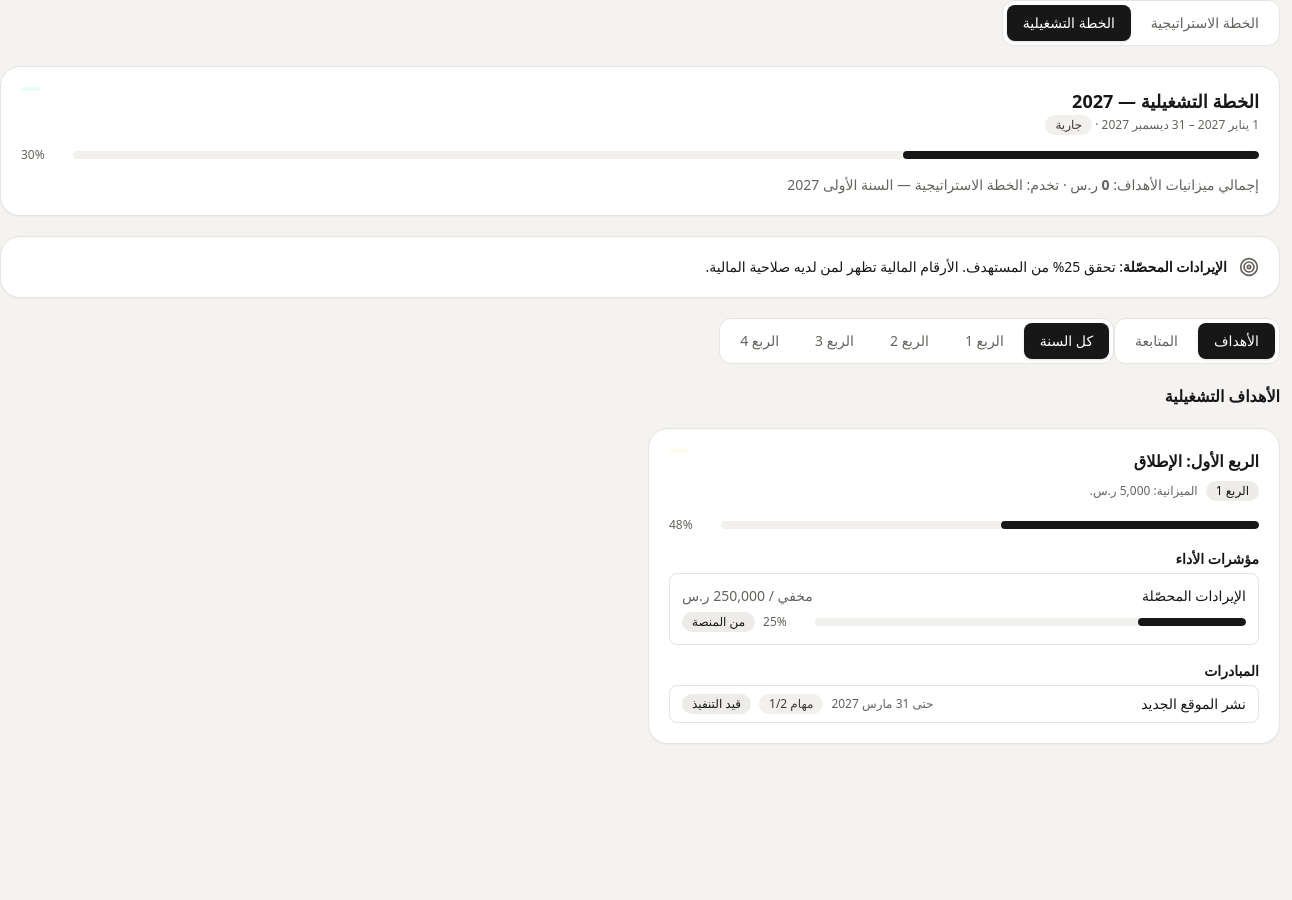
Test: the year-one template and tracking › hides the money from someone without finances, and lists everything in «المتابعة»
The image size is (1292, 900).
Expected: the text "الأرقام المالية تظهر لمن لديه صلاحية المالية" is shown, [706, 257, 1064, 276]
Click the tab "المتابعة": (1157, 341) [1119, 323, 1194, 359]
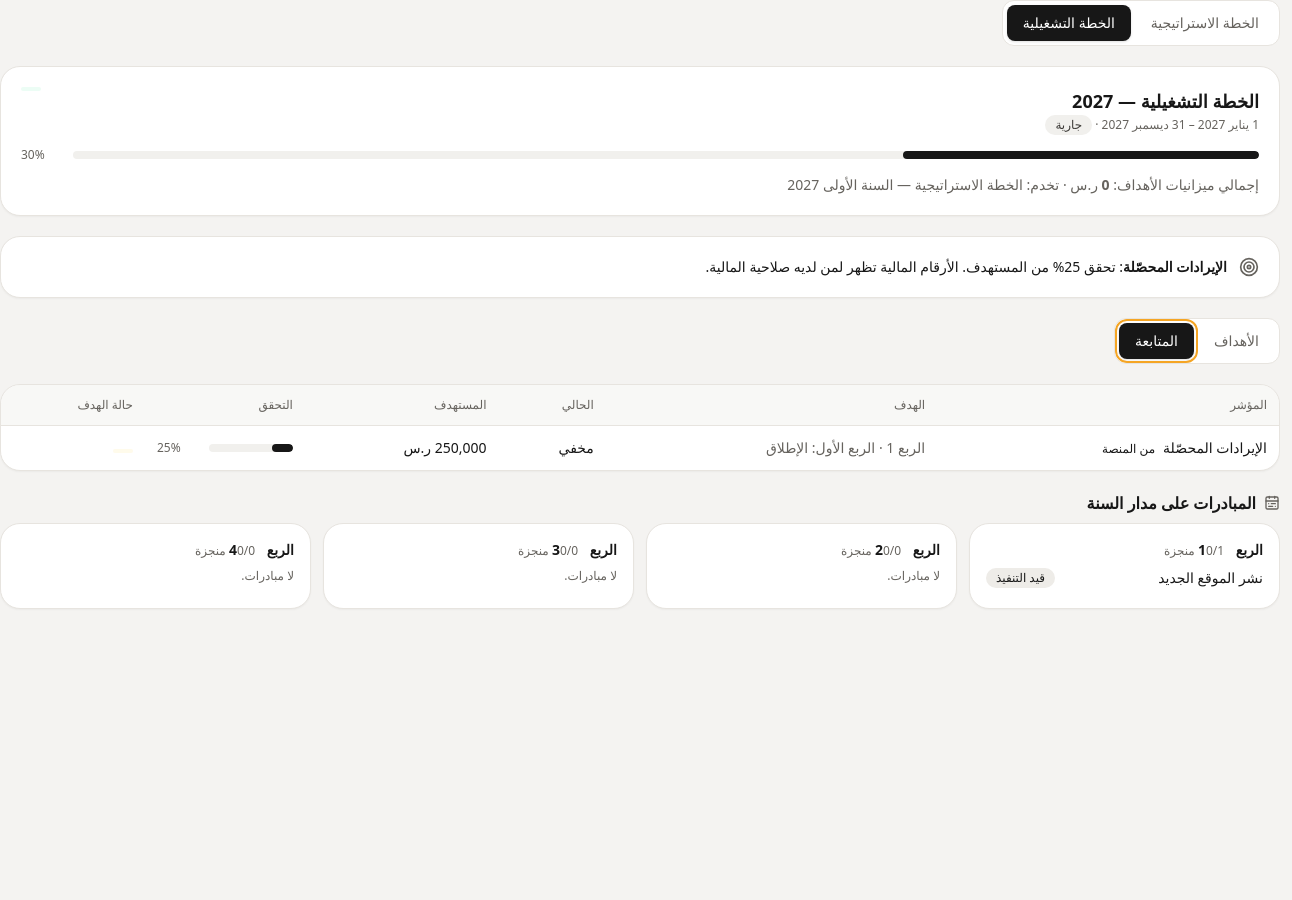
Expected: the text "مخفي" is shown, [498, 426, 606, 470]
Now the text "نشر الموقع الجديد" is shown, box [1158, 568, 1263, 588]
